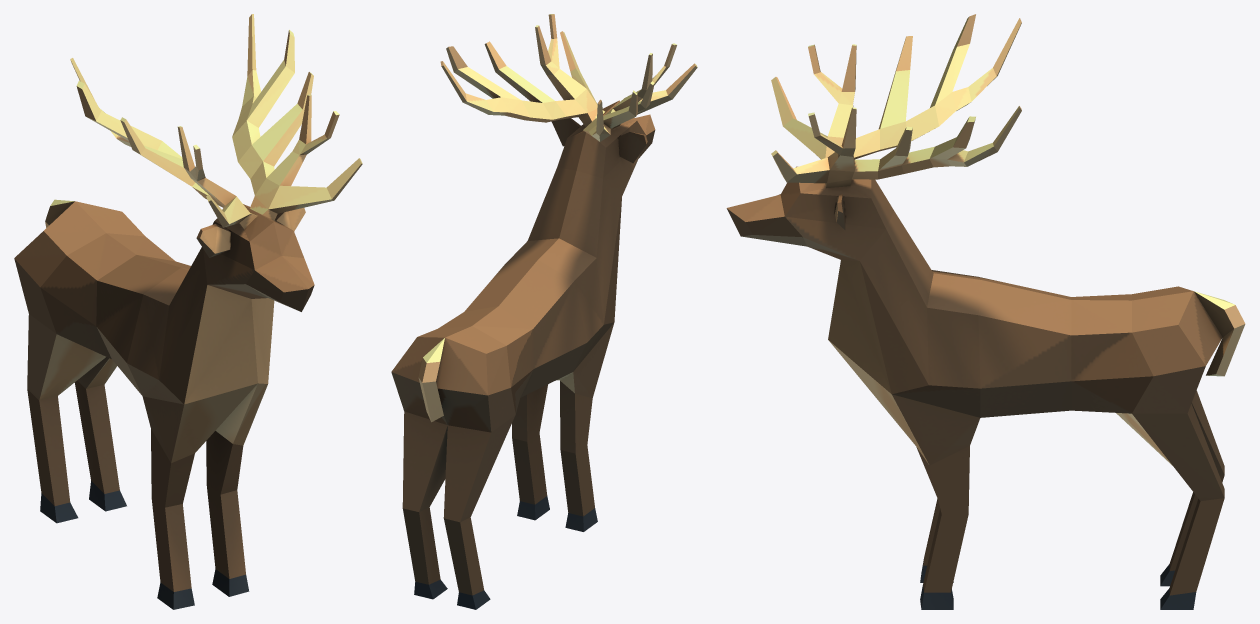
Rendered from 2775ff32-7821-42f0-ae28-af97bcf60437.glb.
The picture shows the model from 3 angles, left to right: view 1: azimuth 30°, elevation 25°; view 2: azimuth 150°, elevation 25°; view 3: azimuth 270°, elevation 25°; orthographic projection. The views are drawn at different scales.
Visible parts, largest first — view 1: deer; view 2: deer; view 3: deer.
Part boxes in pixels (bbox=[...]): deer: bbox=[14, 14, 362, 609]; deer: bbox=[391, 14, 697, 609]; deer: bbox=[726, 14, 1245, 609].
Bounding box in the file's own units: 0.8652 × 2.02 × 1.79.
Materials: 1 (1 with a texture image).
